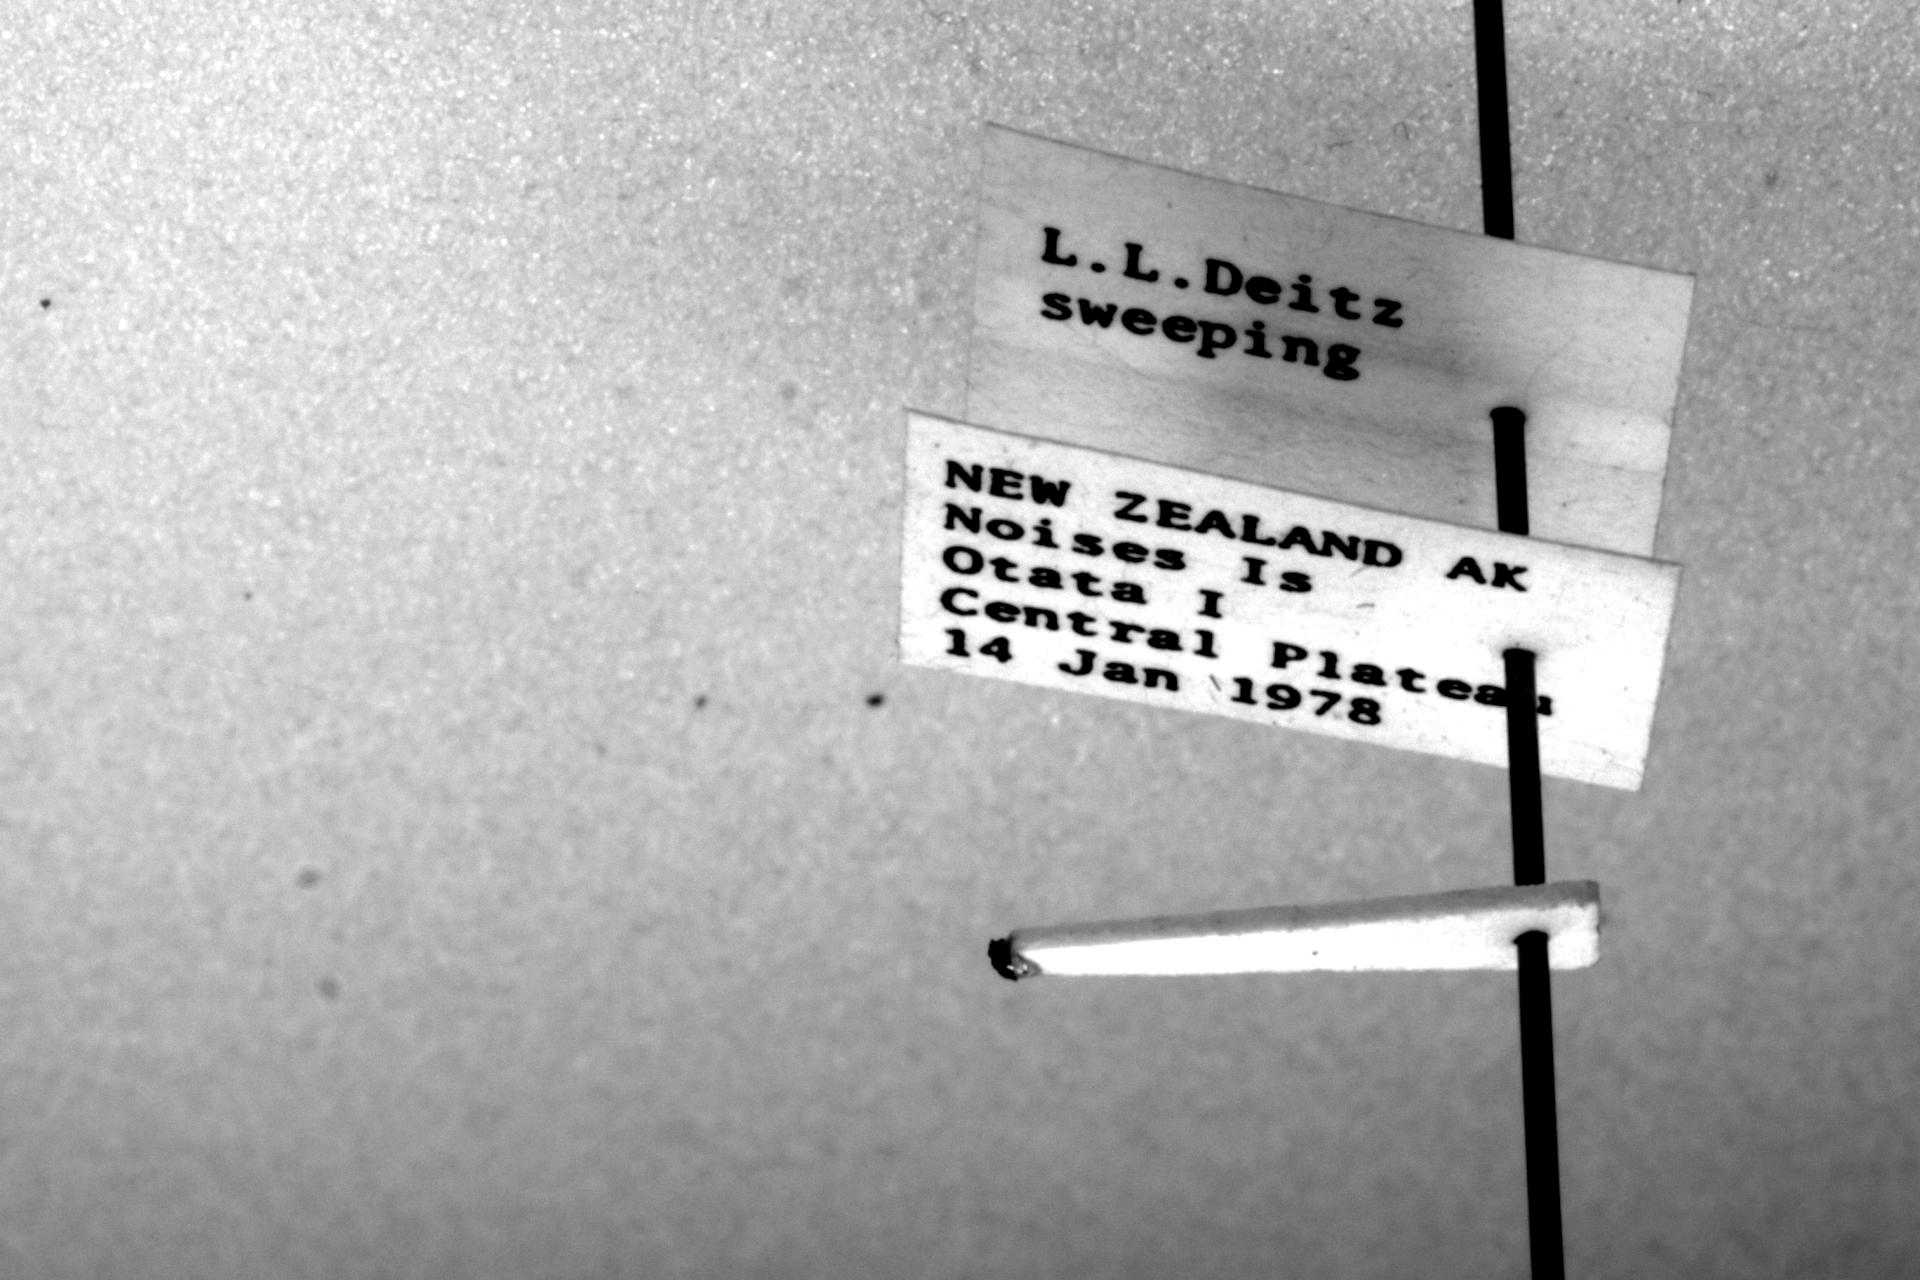typed_label: (967, 124, 1694, 554), (900, 413, 1680, 791)
